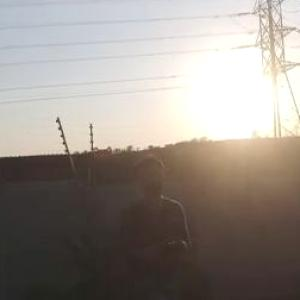follow: (114, 145, 198, 299)
